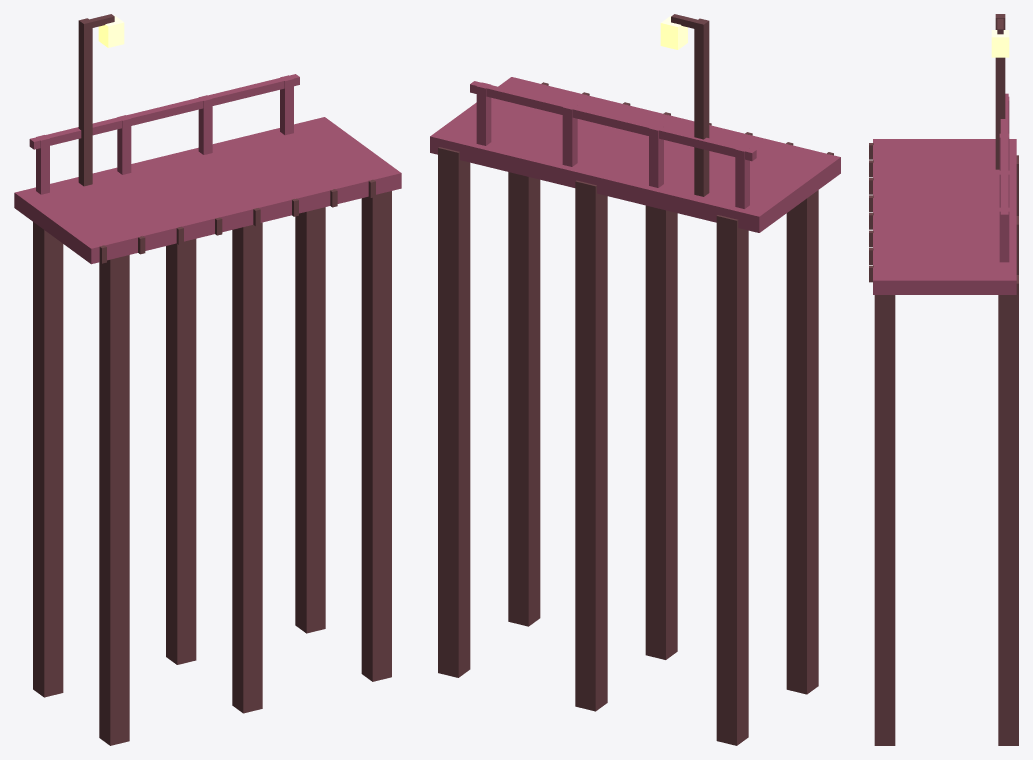
Rendered from pier.glb.
3 views of the same model, side by side, from view 1: azimuth 30°, elevation 25°; view 2: azimuth 150°, elevation 25°; view 3: azimuth 270°, elevation 25° (orthographic). The views are drawn at different scales.
Parts seen in each view (by area): view 1: Deck, PileF1, PileF0, PileF2, PileB0, PileB2, PileB1, Rail, LampPost, Post1, Post2, Post0 (+2 smaller); view 2: Deck, PileB0, PileB1, PileB2, PileF0, PileF1, PileF2, Rail, LampPost, Post2, Post3, Post1 (+2 smaller); view 3: Deck, PileF2, PileB2, LampPost, Rail, Post3, Lantern.
Part boxes in pixels (x1,y1,x2,y2): Deck: [14, 117, 401, 264]; PileF1: [232, 222, 262, 713]; PileF0: [99, 255, 129, 745]; PileF2: [361, 191, 391, 681]; PileB0: [33, 222, 63, 697]; PileB2: [295, 207, 325, 633]; PileB1: [166, 239, 196, 664]; Rail: [29, 74, 299, 149]; LampPost: [78, 18, 92, 186]; Post1: [117, 115, 131, 174]; Post2: [198, 95, 212, 154]; Post0: [36, 135, 49, 194]; Deck: [430, 77, 840, 232]; PileB0: [716, 215, 748, 745]; PileB1: [575, 180, 607, 711]; PileB2: [438, 147, 470, 677]; PileF0: [786, 190, 818, 694]; PileF1: [645, 205, 677, 659]; PileF2: [508, 172, 540, 626]; Rail: [470, 81, 756, 161]; LampPost: [694, 18, 709, 196]; Post2: [562, 103, 577, 166]; Post3: [476, 82, 491, 145]; Post1: [649, 124, 663, 187]; Deck: [873, 139, 1016, 294]; PileF2: [874, 295, 895, 745]; PileB2: [998, 275, 1018, 745]; LampPost: [995, 14, 1005, 169]; Rail: [1000, 93, 1008, 221]; Post3: [999, 207, 1009, 262]; Lantern: [991, 30, 1009, 57].
Size of the model in its own units: 4.2 by 8.6 by 1.88.
